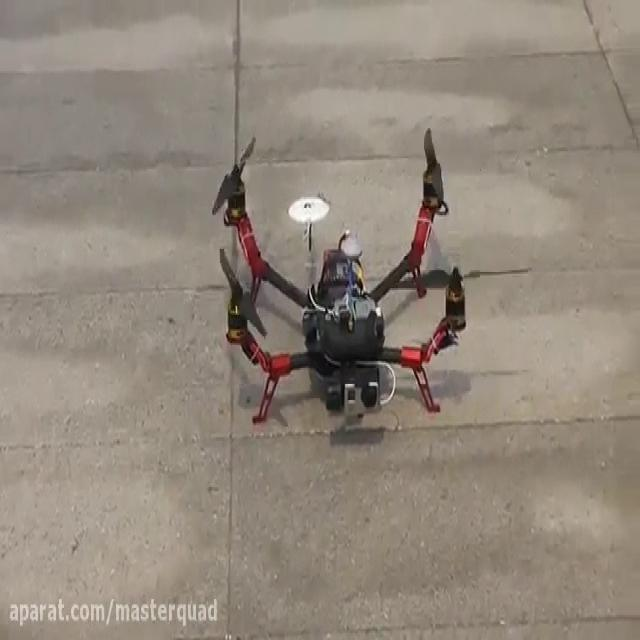drone: (207, 121, 531, 430)
